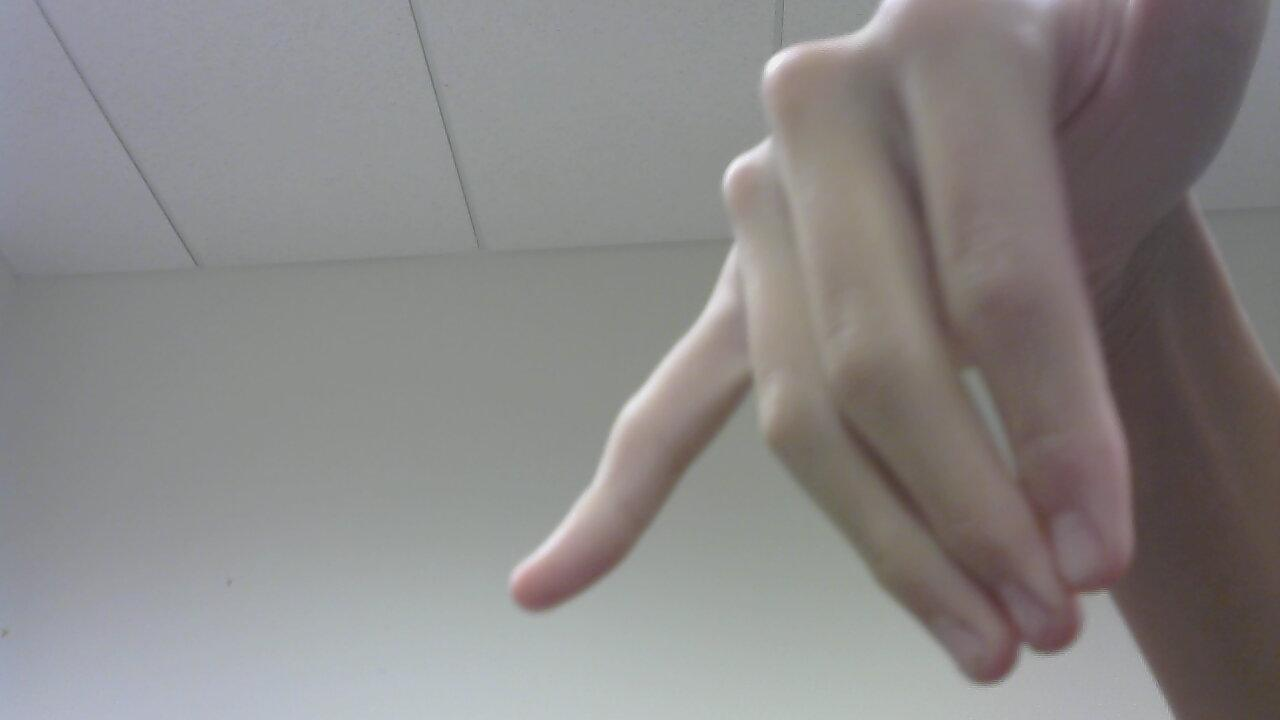hands: (496, 0, 1280, 697)
